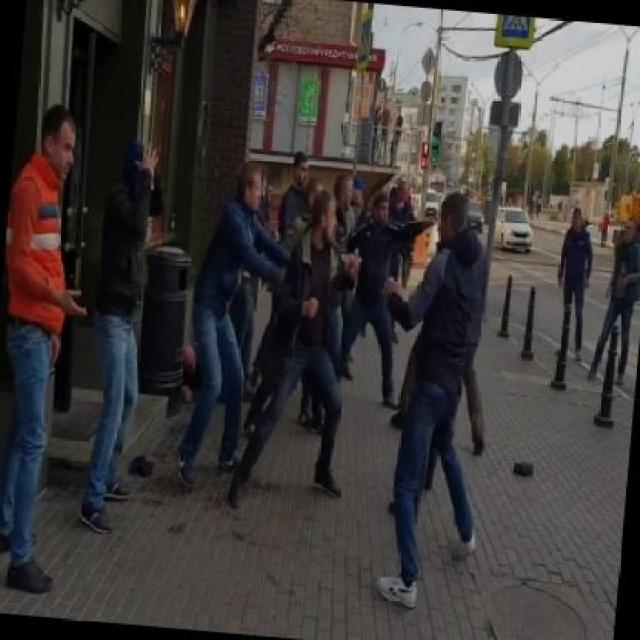fight: (163, 145, 500, 616)
non-fight: (0, 91, 125, 603), (76, 142, 167, 537), (540, 200, 605, 360)
